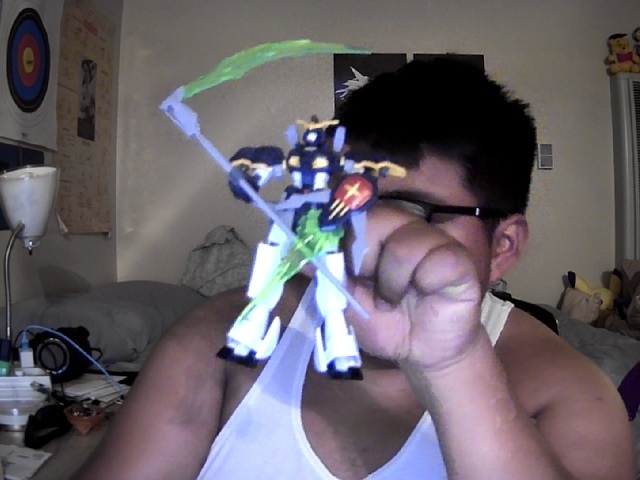Deathsythe: (159, 40, 407, 382)
